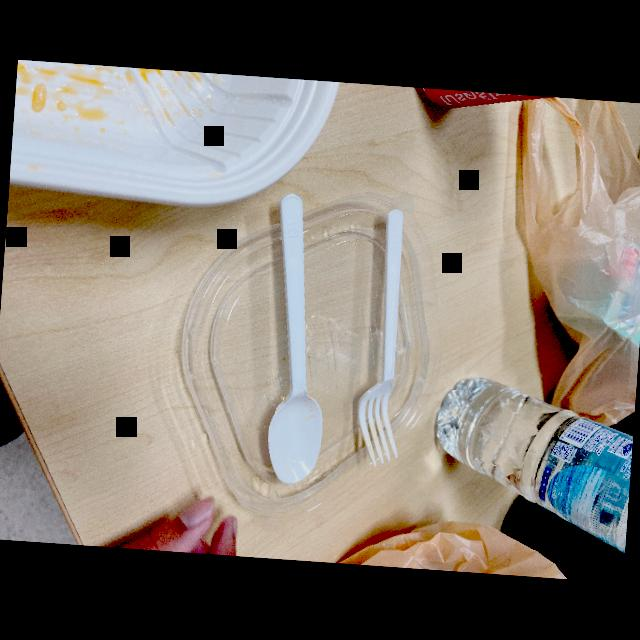plastic_spoon: (246, 187, 351, 488), (340, 196, 434, 481)
